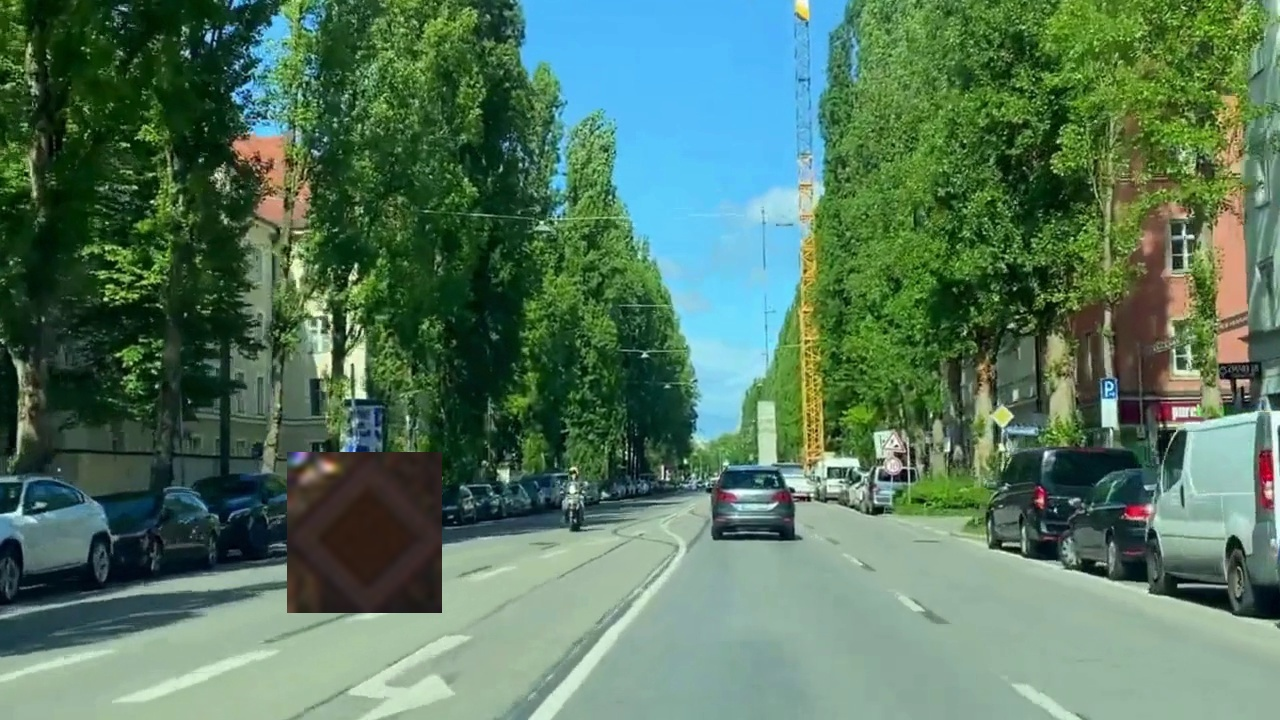Priority road: (287, 452, 442, 613)
